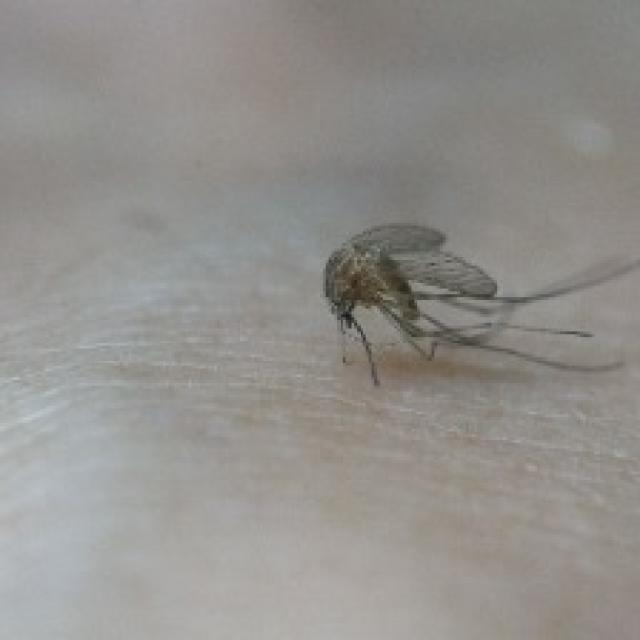culex: (320, 217, 637, 386)
